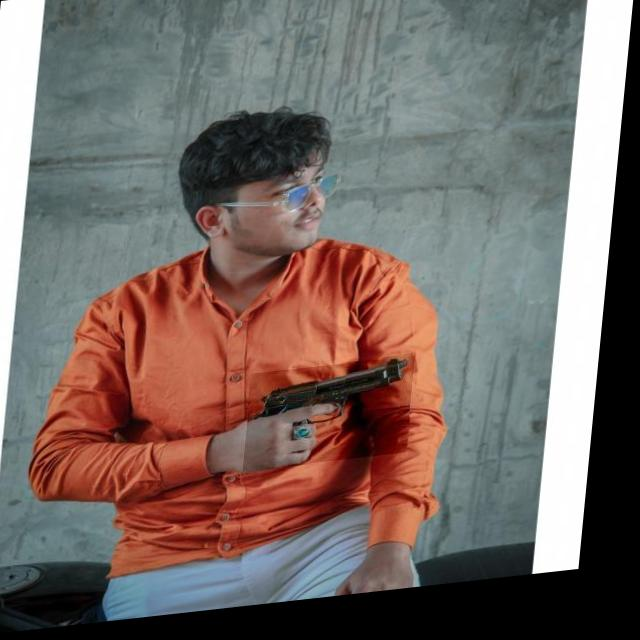handgun: (251, 364, 423, 478)
